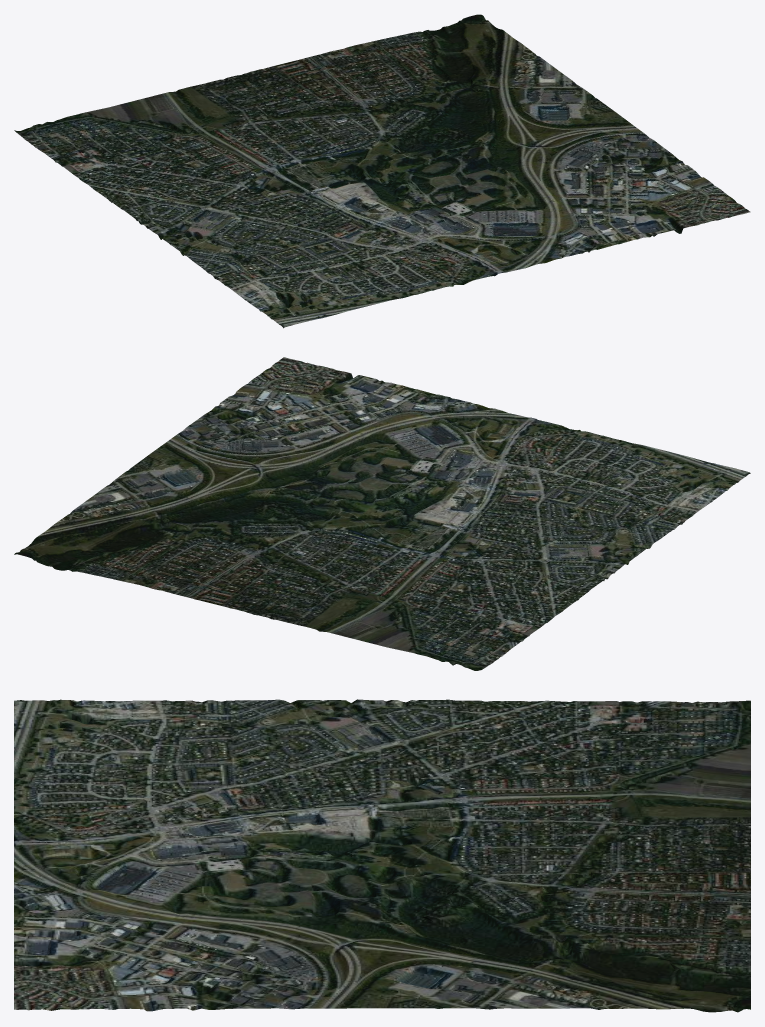
The model's file is map_10_250_427.dae.
3 views of the same model, one above another, from view 1: azimuth 30°, elevation 25°; view 2: azimuth 150°, elevation 25°; view 3: azimuth 270°, elevation 25° (orthographic). The views are drawn at different scales.
Visible parts, largest first — view 1: Ter0; view 2: Ter0; view 3: Ter0.
Boxes of the visible parts, x1,y1,x2,y2 form: Ter0: (14,14,750,328); Ter0: (14,357,750,670); Ter0: (14,699,750,1012).
Bounding box in the file's own units: 2044 × 2044 × 38.1.
Materials: 3 (3 with a texture image).
